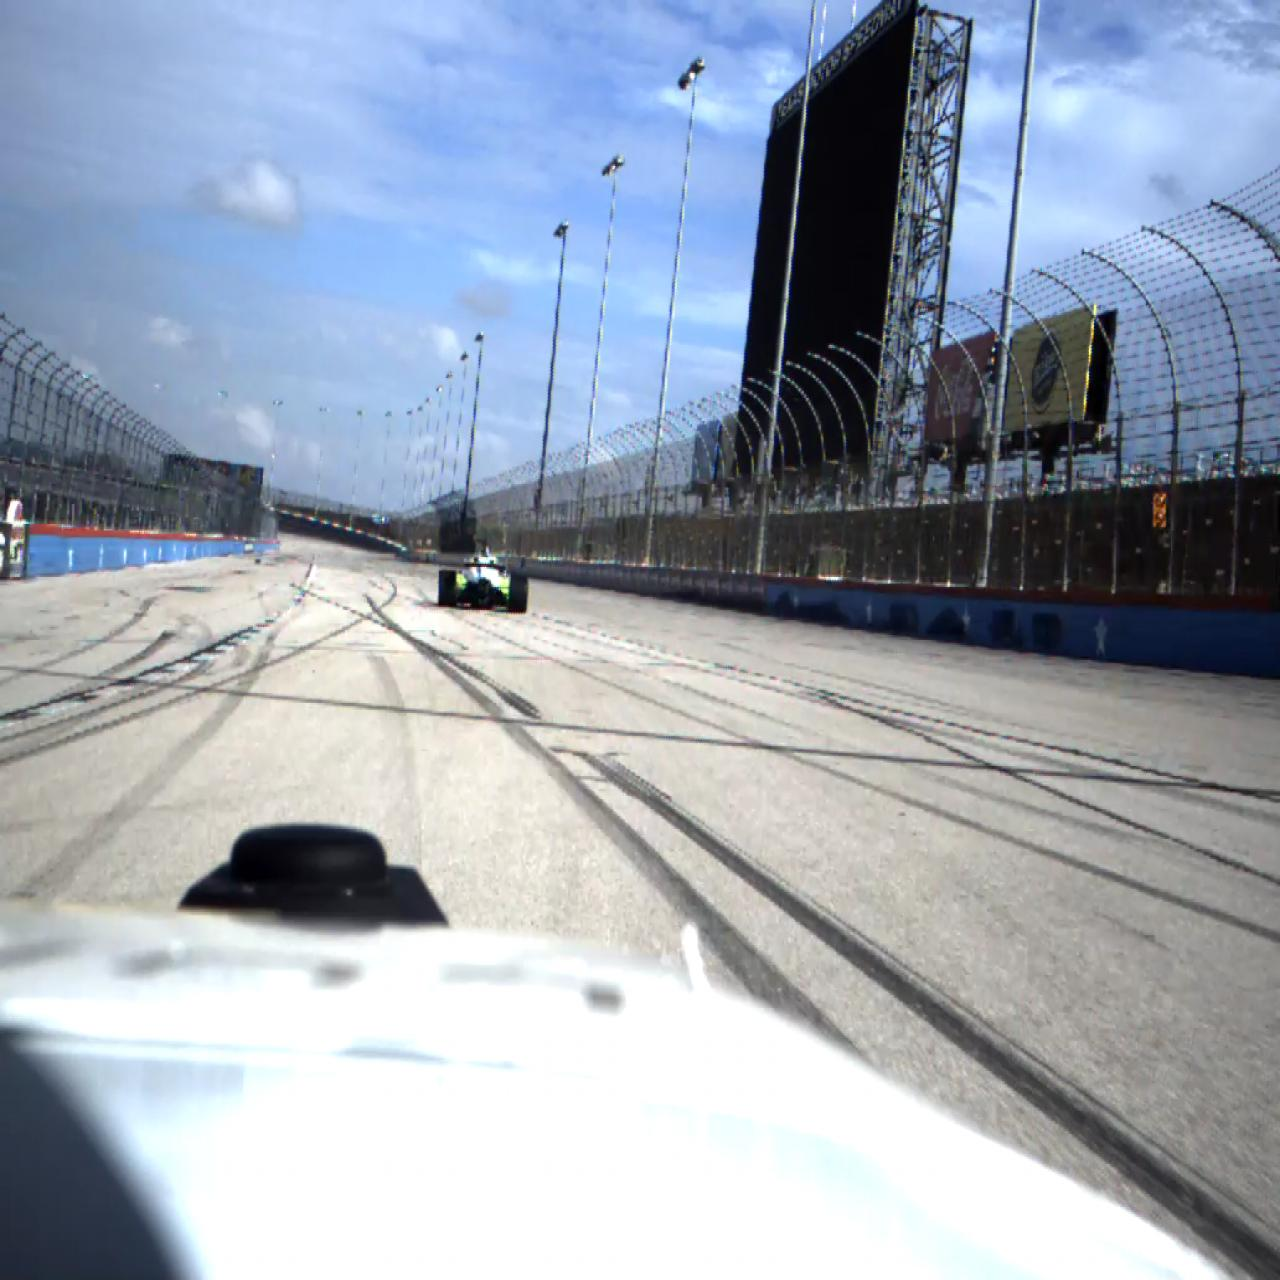AV: (437, 538, 529, 613)
Wheel: (510, 572, 527, 613), (437, 570, 456, 607)
